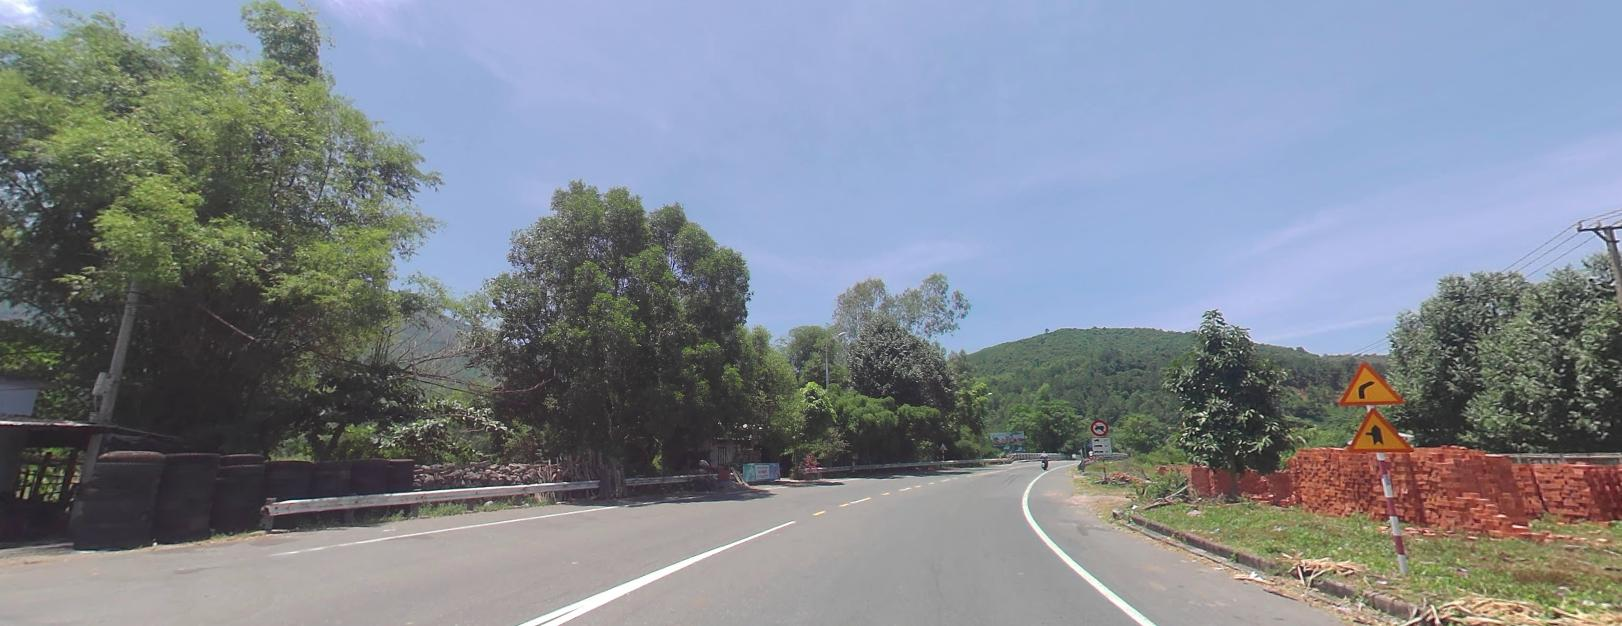Cam con lai: (1088, 416, 1109, 434)
Nguy hiem: (1329, 407, 1421, 461), (1320, 356, 1411, 411)
